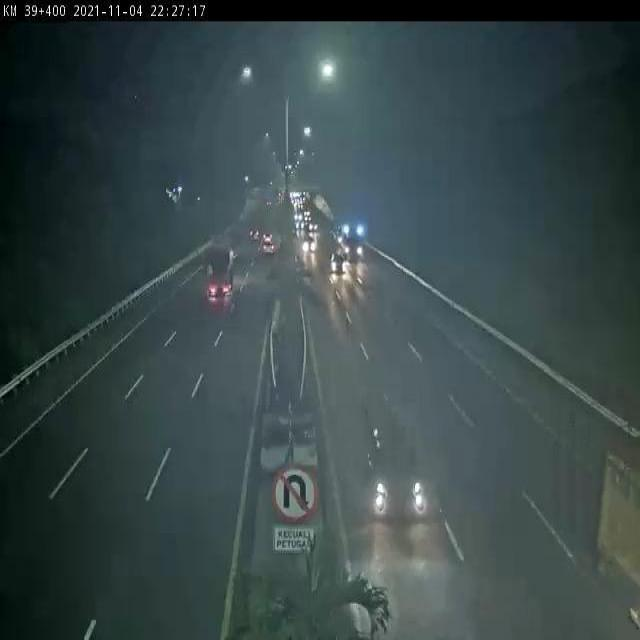car: (363, 391, 426, 516), (260, 240, 276, 259)
truck-m-: (202, 245, 232, 300)
